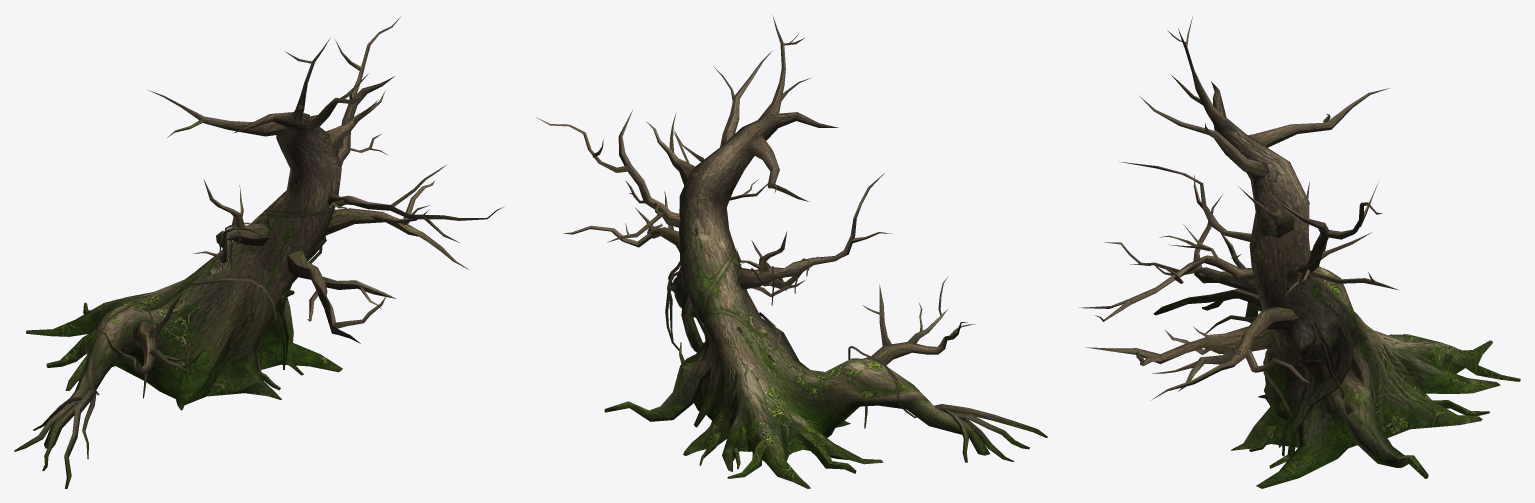
The model's file is yj_shu_4.FBX.
3 views of the same model, side by side, from view 1: azimuth 30°, elevation 25°; view 2: azimuth 150°, elevation 25°; view 3: azimuth 270°, elevation 25° (orthographic). The views are drawn at different scales.
Parts seen in each view (by area): view 1: yj_shu_4; view 2: yj_shu_4; view 3: yj_shu_4.
Boxes of the visible parts, <box> form: yj_shu_4: <box>14,16,504,488</box>; yj_shu_4: <box>536,15,1047,488</box>; yj_shu_4: <box>1079,16,1520,488</box>.
Bounding box in the file's own units: 2299 × 1874 × 1695.
